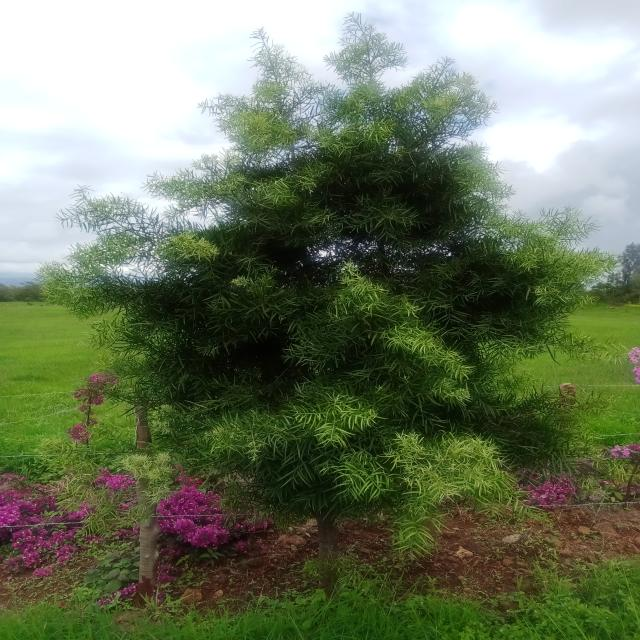Podocarpus falcatus: (32, 46, 610, 568)
